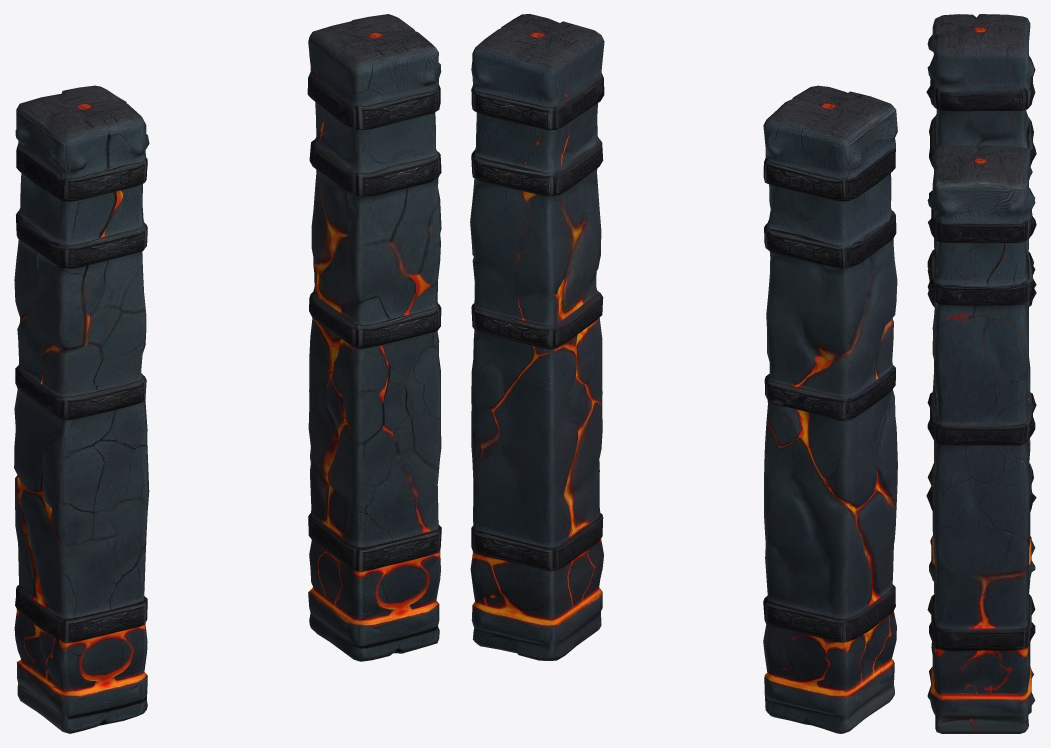
The model's file is kit-pillar.glb.
The picture shows the model from 3 angles, left to right: view 1: azimuth 30°, elevation 25°; view 2: azimuth 150°, elevation 25°; view 3: azimuth 270°, elevation 25°; orthographic projection. The views are drawn at different scales.
Bounding box in the file's own units: 1.3 × 1.9 × 0.3405.
1 material, 1 textured.
